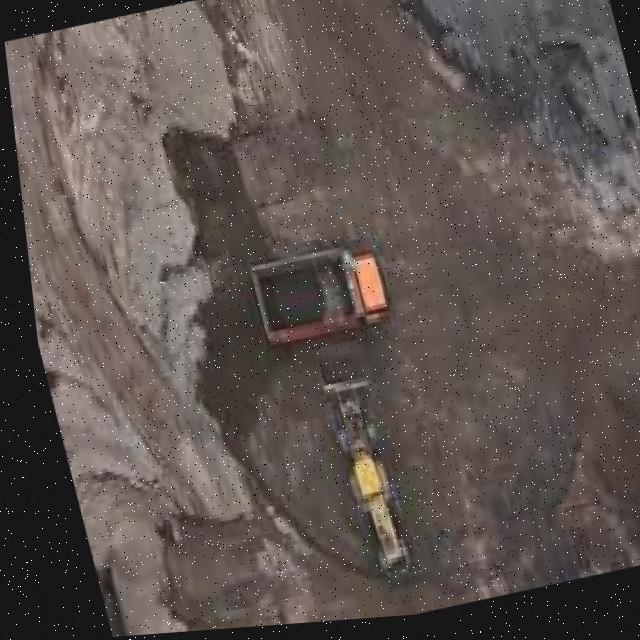truck: (311, 370, 407, 589), (237, 240, 390, 355)
